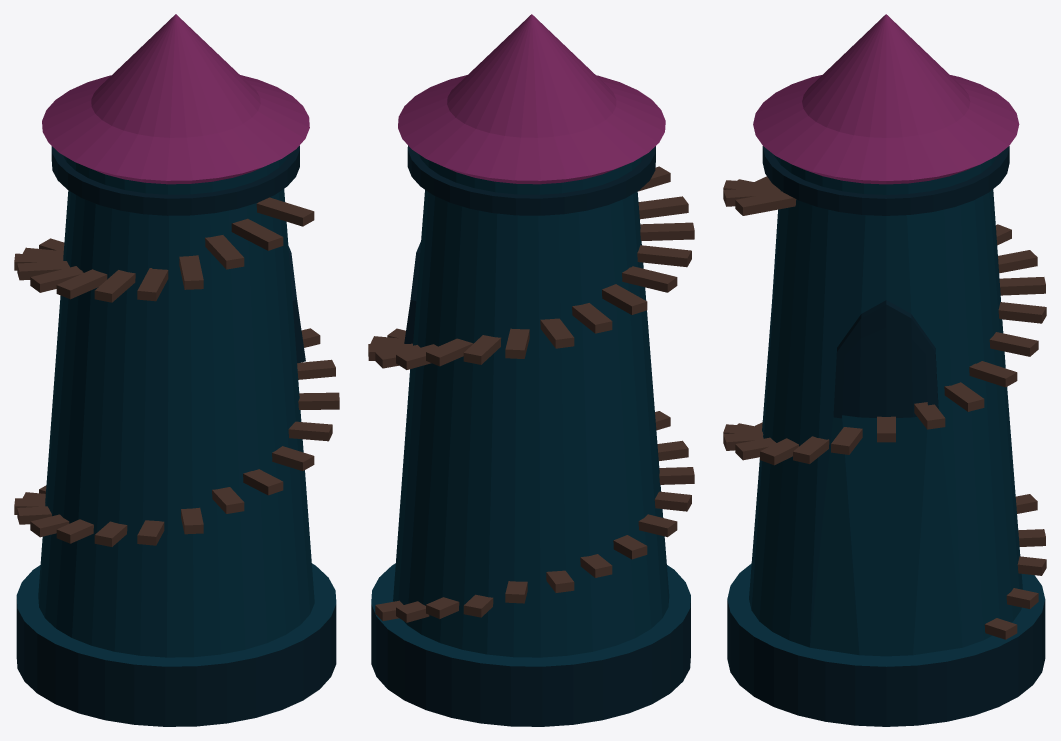
Rendered from tower1.fbx.
3 renders of one model, left to right at view 1: azimuth 30°, elevation 25°; view 2: azimuth 150°, elevation 25°; view 3: azimuth 270°, elevation 25°, orthographic.
Parts seen in each view (by area): view 1: Cylinder; view 2: Cylinder; view 3: Cylinder.
Boxes of the visible parts, bbox=[...] form: Cylinder: bbox=[14, 14, 339, 726]; Cylinder: bbox=[368, 14, 694, 726]; Cylinder: bbox=[723, 14, 1046, 726].
Size of the model in its own units: 500 by 1100 by 500.
